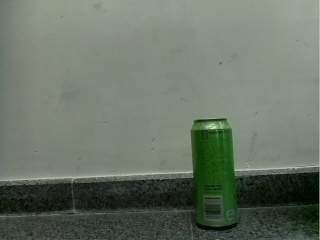botella plastico: (190, 118, 238, 228)
